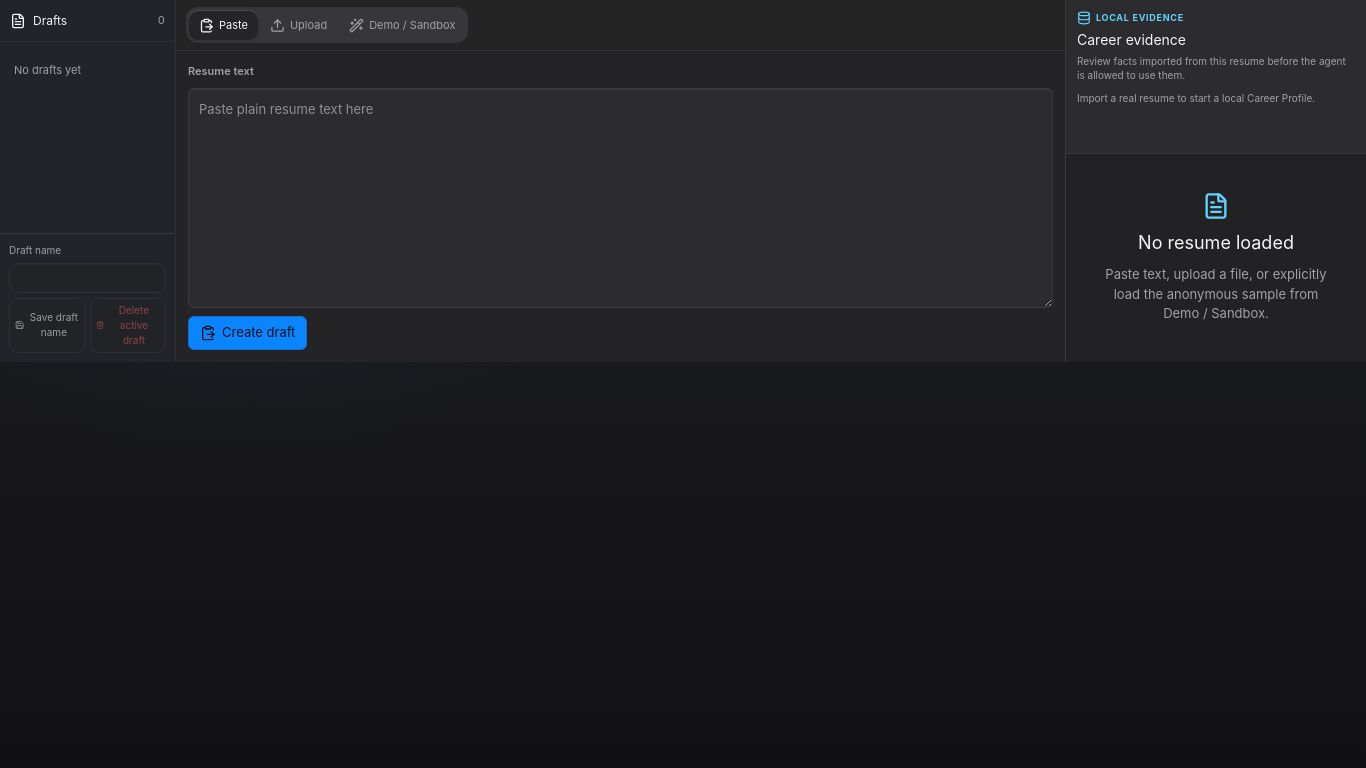
Test case: ResumeStudioApp › keeps a created draft but explicitly reports when its Career Evidence was not saved
Step 1. Type "Ada source" into the text box labelled "Resume text" → [620, 198], box [188,88,1053,308]
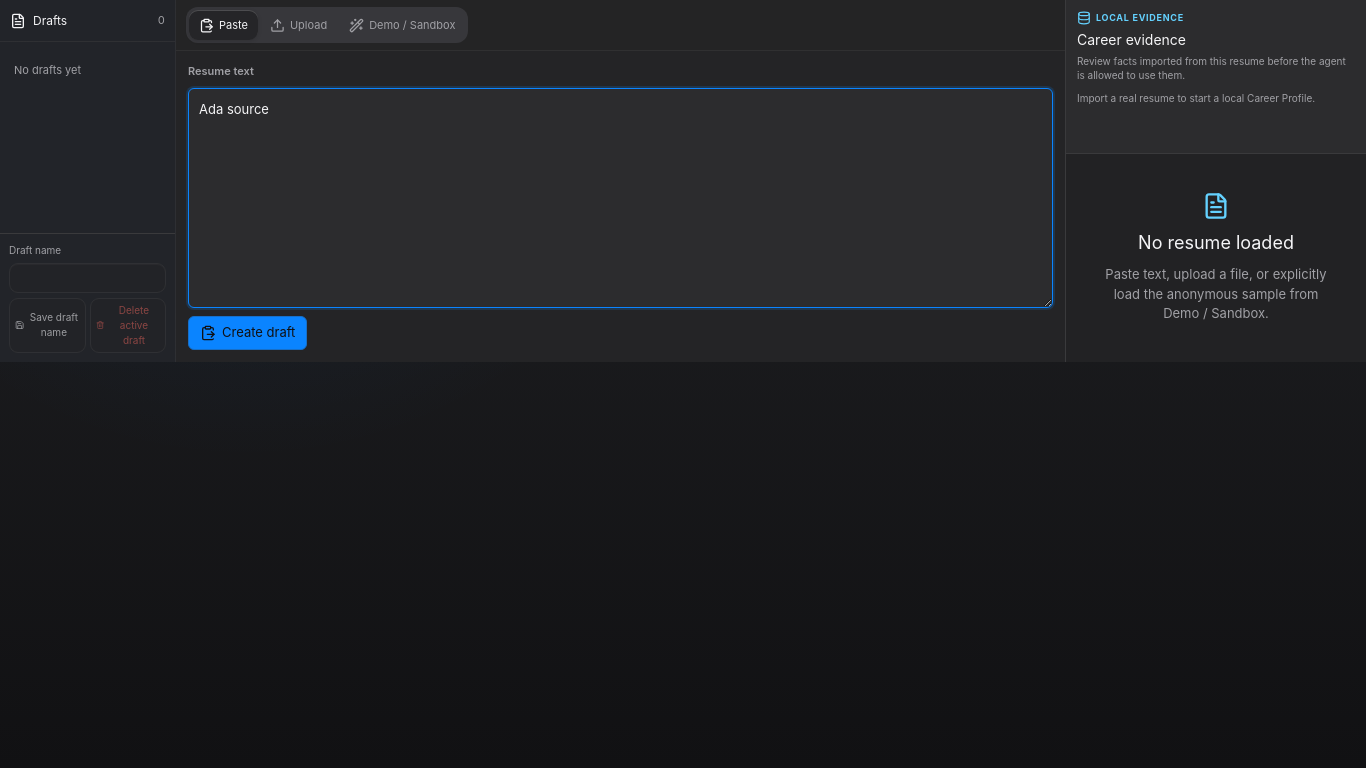
Step 2. Click the button "Create draft" → [248, 332], box [188,316,307,350]
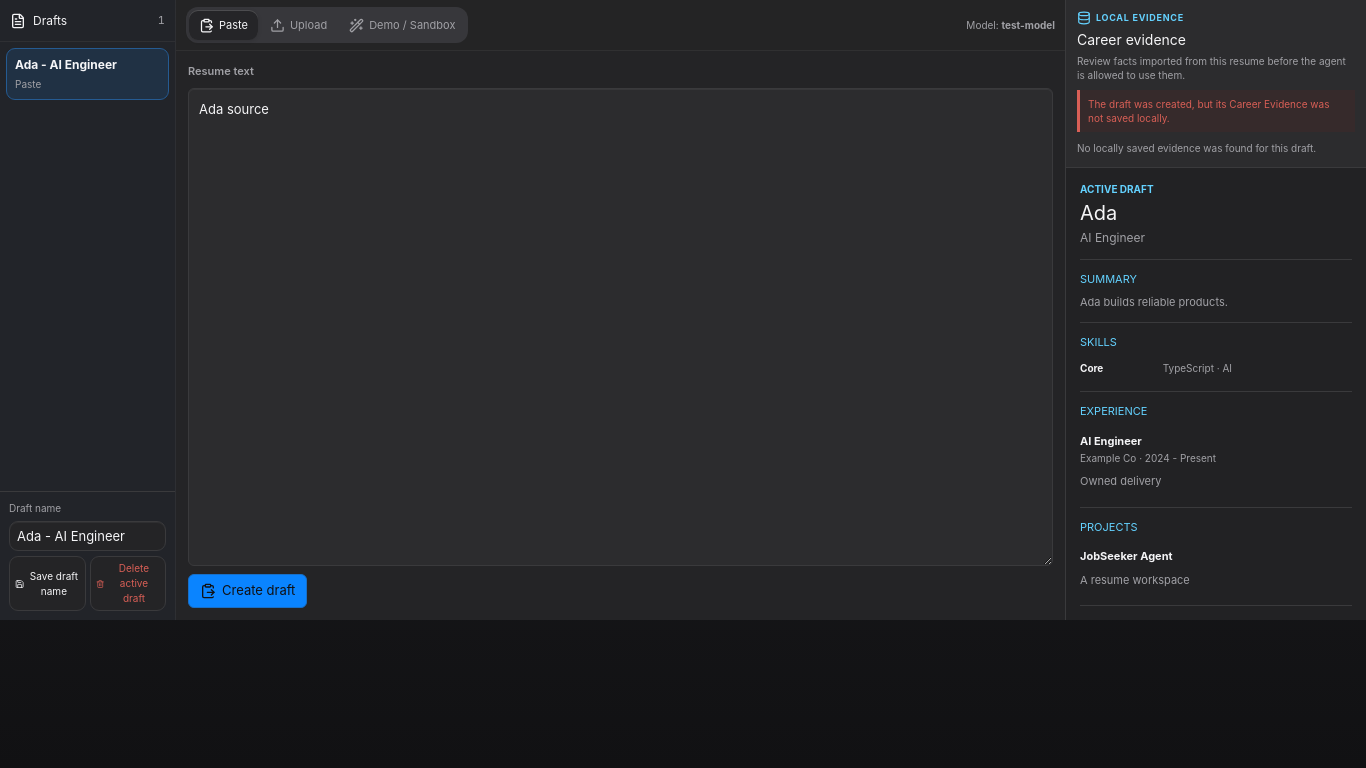
Expected: the heading "Ada" is shown, [1080,200,1117,224]
Expected: the button with aria-label "Open Ada - AI Engineer" is shown, [6,48,169,100]
Expected: the message reads "The draft was created, but its Career Evidence was not saved locally.", [1088,98,1329,124]
